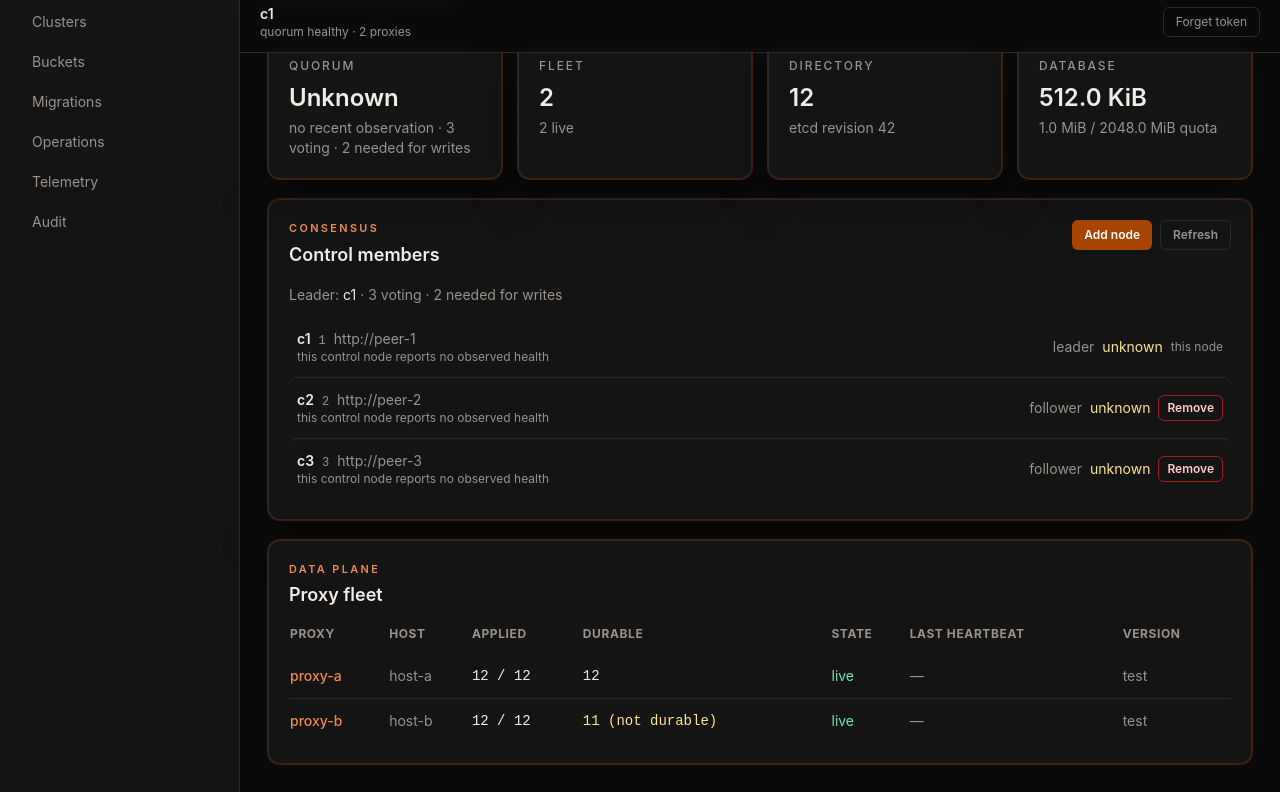
it: opens a proxy and shows what is off with its install
(page scrolled)
Click the text "proxy-b" at (339, 721), box [289,698,388,743]
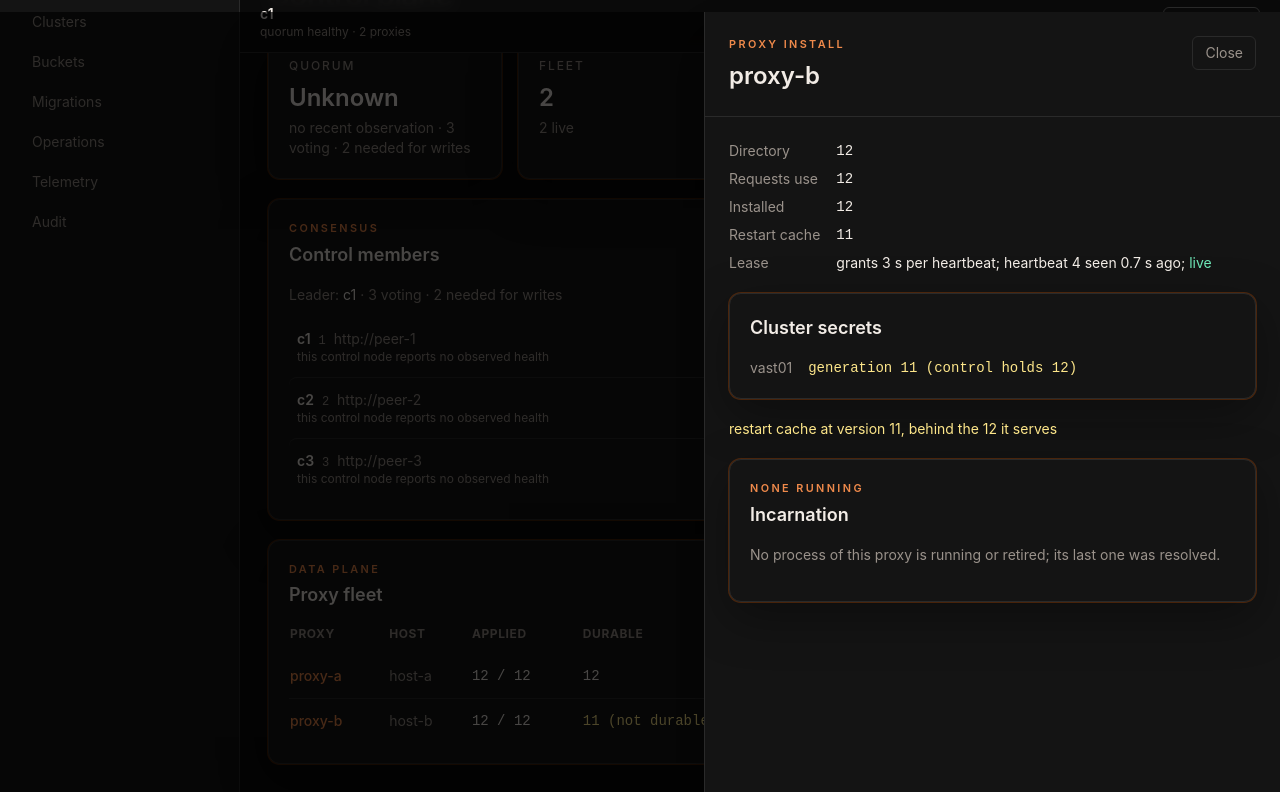
Expected: the list item "restart cache at version 11, behind the 12 it serves" is shown, [729,420,1057,437]
Expected: the text "generation 11 (control holds 12)" is shown, [808,360,1077,376]
Expected: the text "grants 3 s per heartbeat; heartbeat 4 seen 0.7 s ago; live" is shown, [836,253,1256,273]
